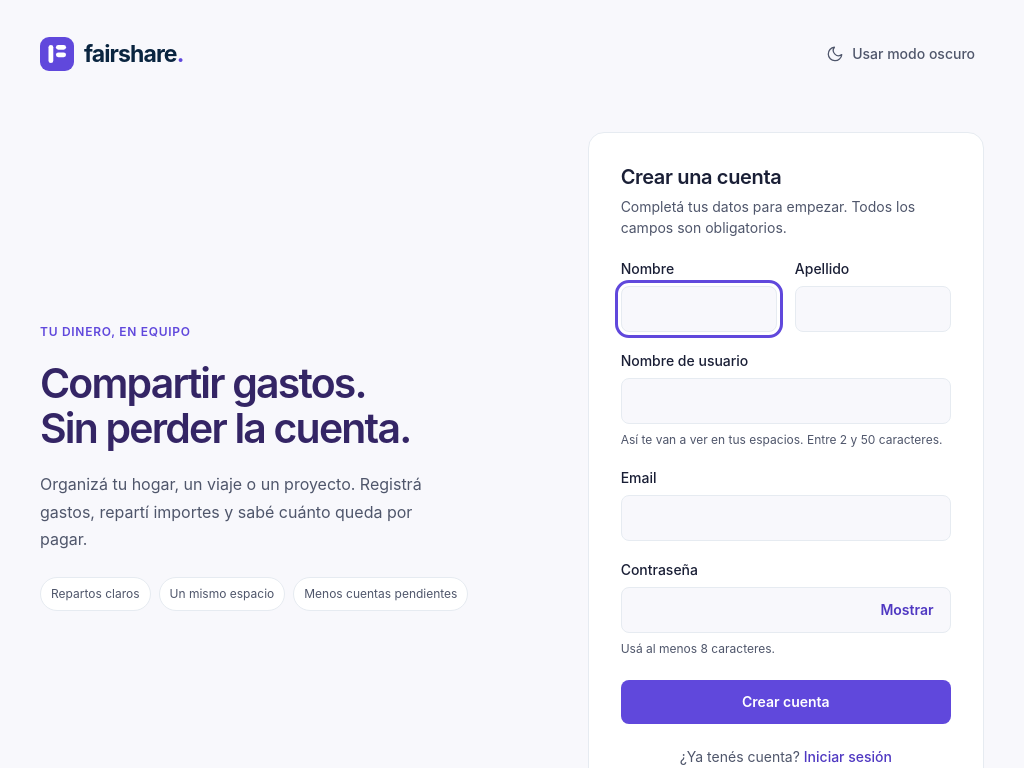
registration › takes the person to login with the email filled in after registering
Type "Ana" into the field named "Nombre (" at {"x": 699, "y": 309}, box [621, 286, 777, 332]
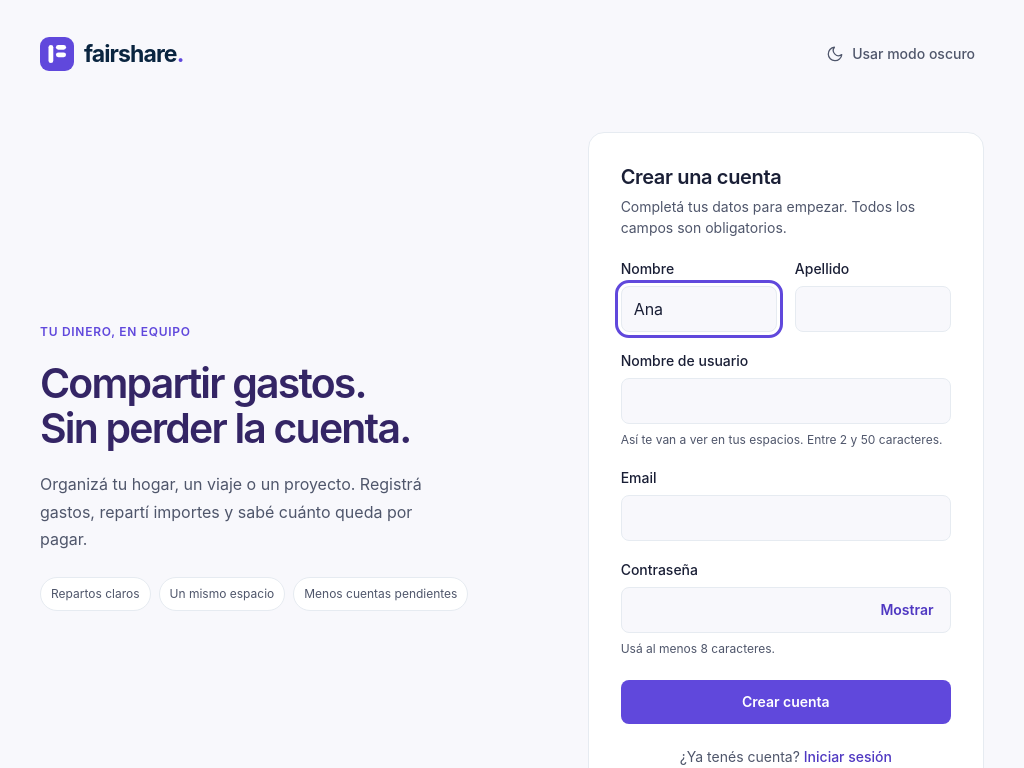
Type "Pérez" into the field labelled "Apellido" at {"x": 873, "y": 309}, box [795, 286, 951, 332]
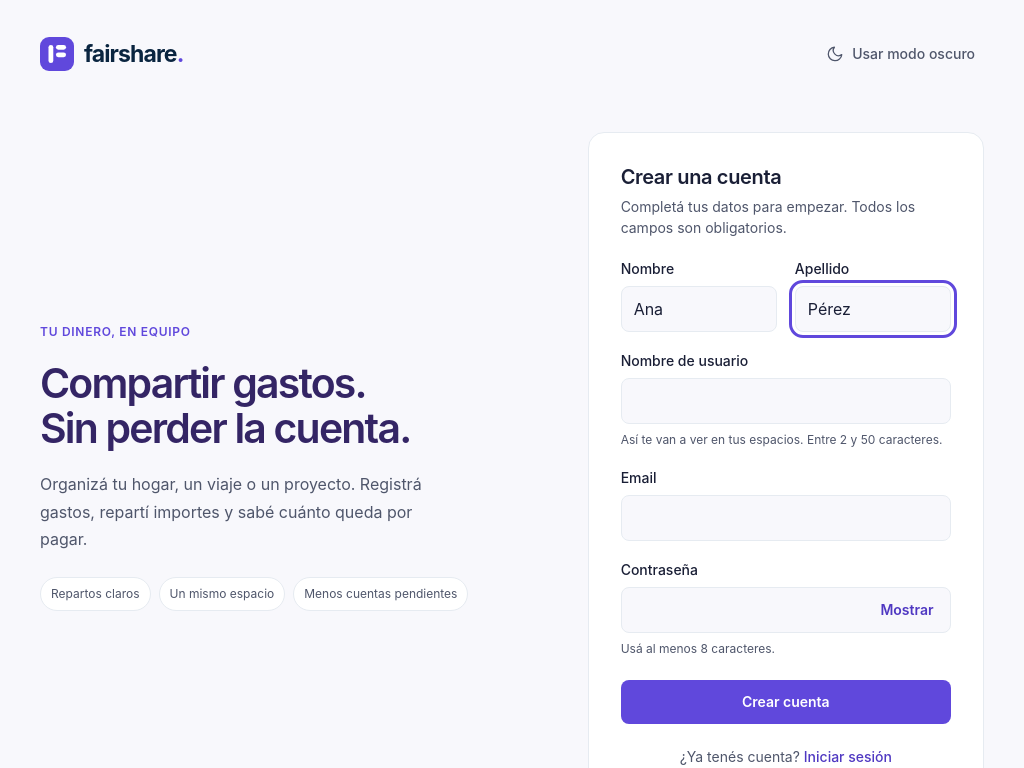
Type "anap" into the field labelled "Nombre de usuario" at {"x": 786, "y": 401}, box [621, 378, 951, 424]
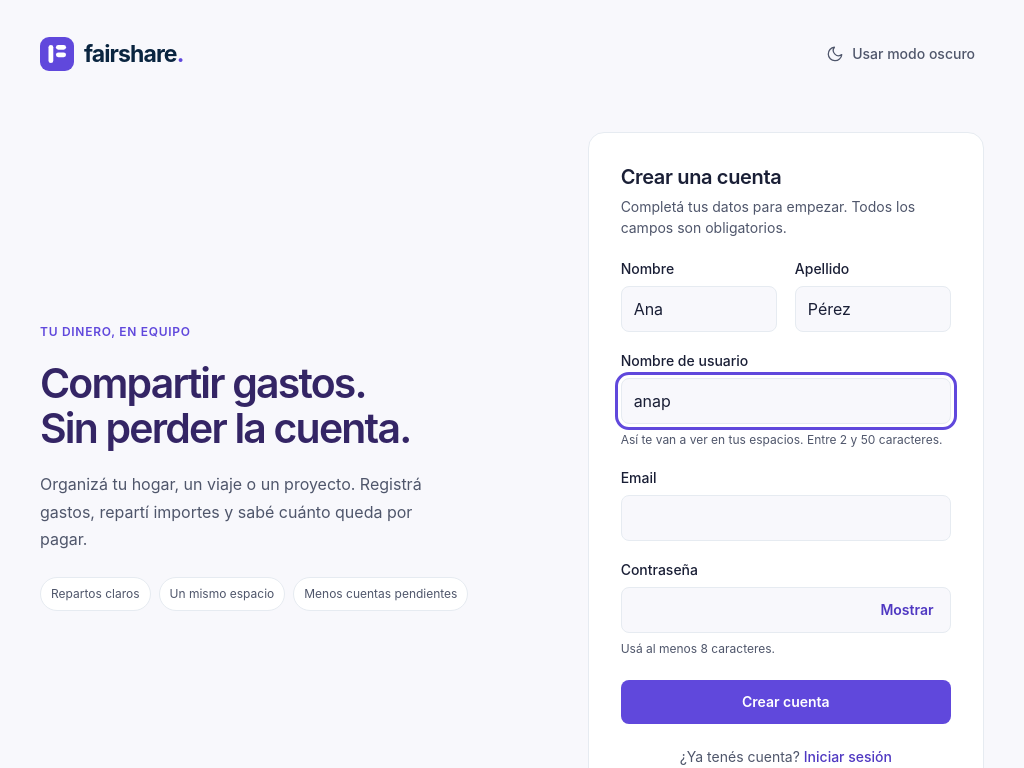
Type "ana@example.test" into the field labelled "Email" at {"x": 786, "y": 518}, box [621, 495, 951, 541]
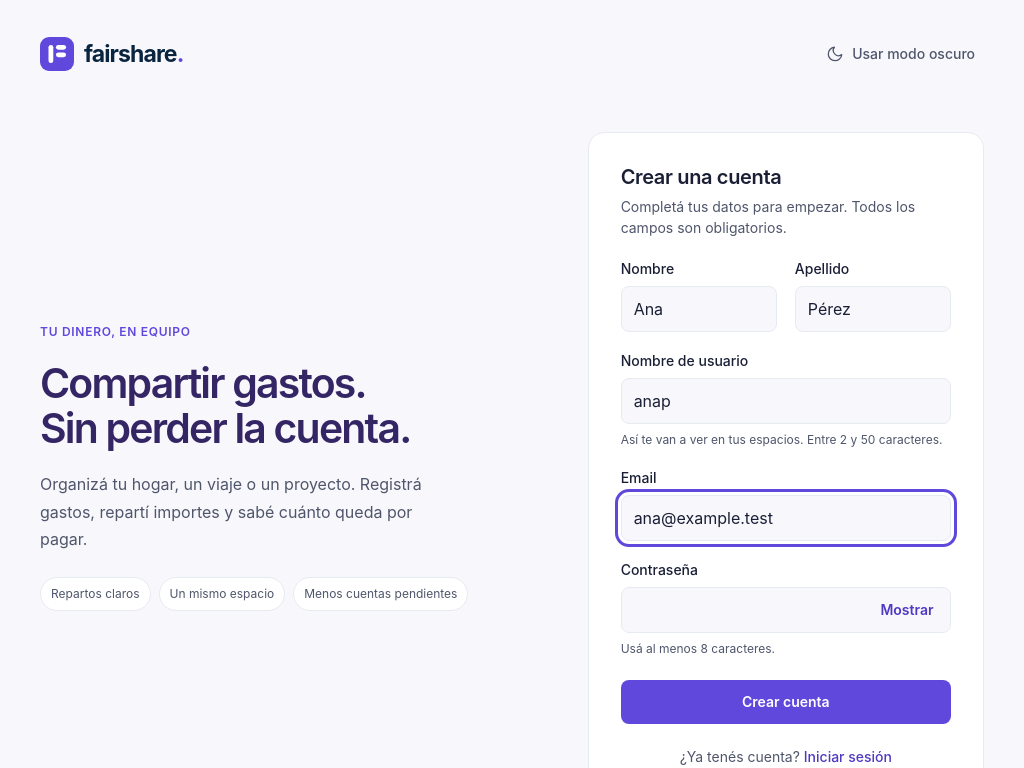
Type "password-test" into the password field labelled "Contraseña" at {"x": 786, "y": 610}, box [621, 587, 951, 633]
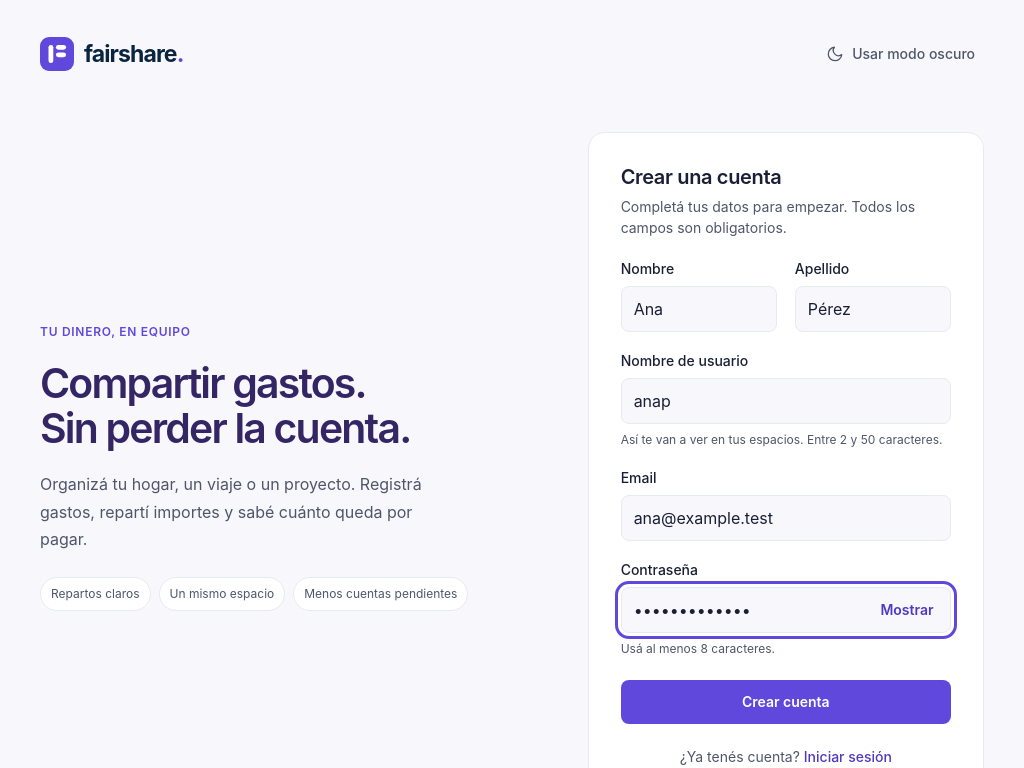
Click the button "Crear cuenta" at {"x": 786, "y": 702}, box [621, 680, 951, 724]
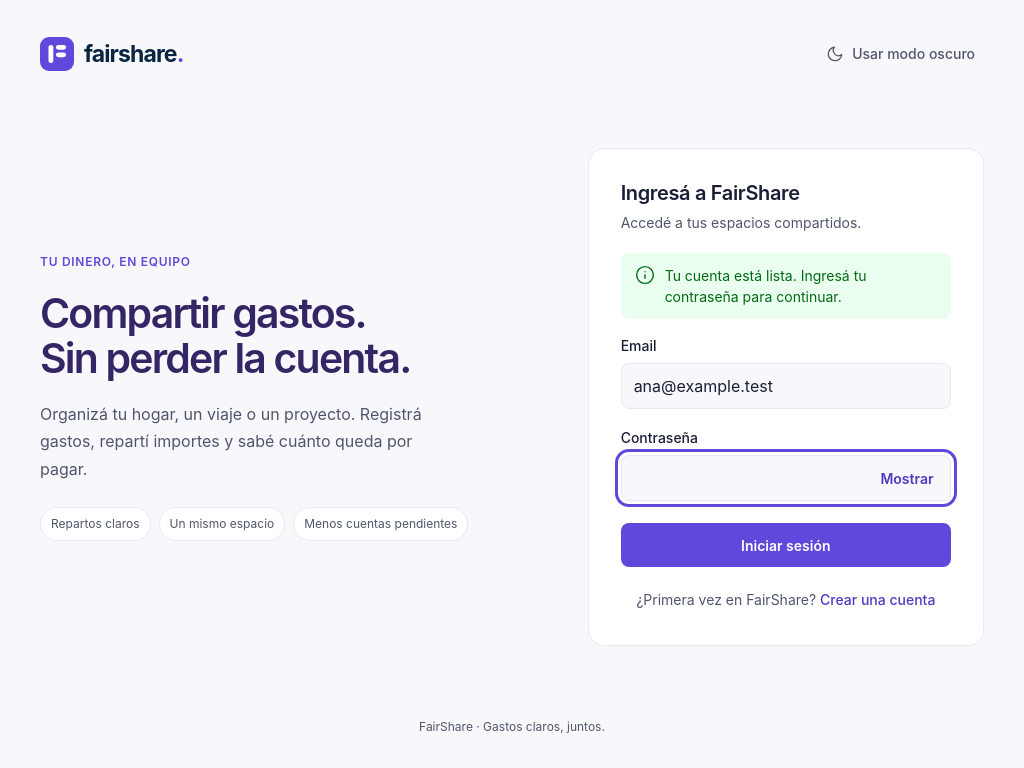
expect the text "Tu cuenta está lista. Ingresá tu contraseña para continuar." is shown: met, box [665, 267, 866, 305]
expect the field labelled "Email" holds "ana@example.test": met, box [621, 363, 951, 409]
